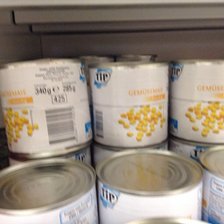corn: (1, 58, 92, 156), (88, 61, 170, 149), (170, 59, 224, 143)
